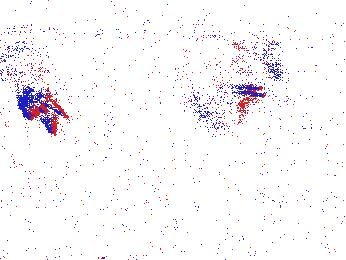flame jellyfish: (1, 41, 69, 135), (192, 82, 268, 139), (218, 53, 286, 102)
